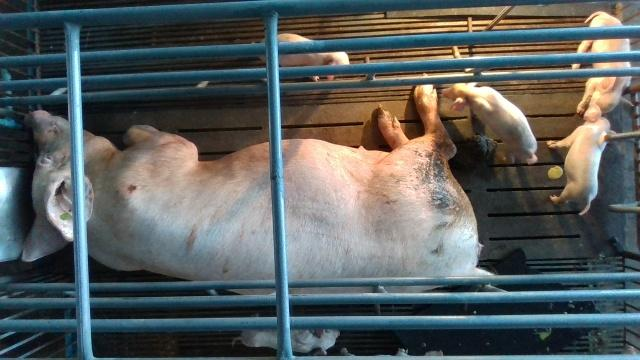piglet: (545, 103, 617, 215), (442, 83, 538, 164), (571, 12, 631, 114), (232, 311, 340, 357), (260, 33, 351, 81)
sow-sleep: (21, 74, 497, 295)
